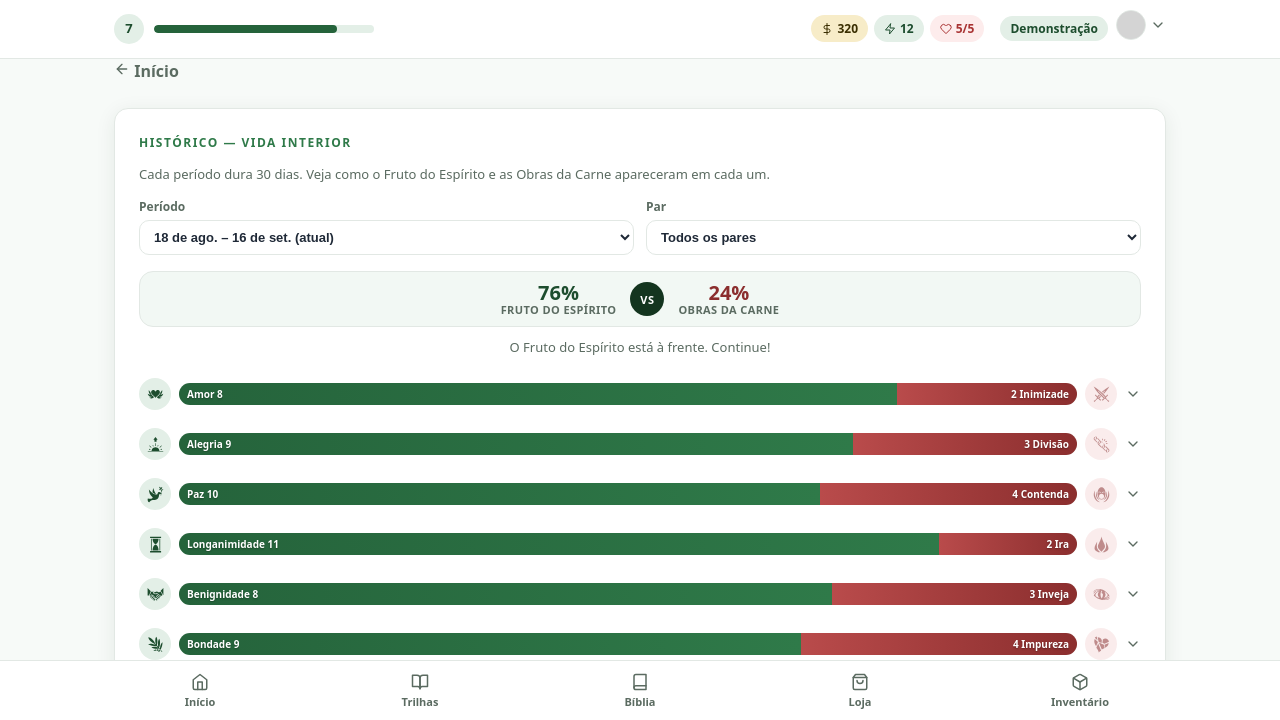
VidaInteriorHistoricoPage › filtrar por um par específico mostra só aquele par na barra
Expected: the text "Histórico — Vida Interior" is shown, [139,134,352,151]
Select "Amor × Inimizade" in the dropdown labelled "Par". click: {"x": 894, "y": 238}
box: [646,220,1141,255]
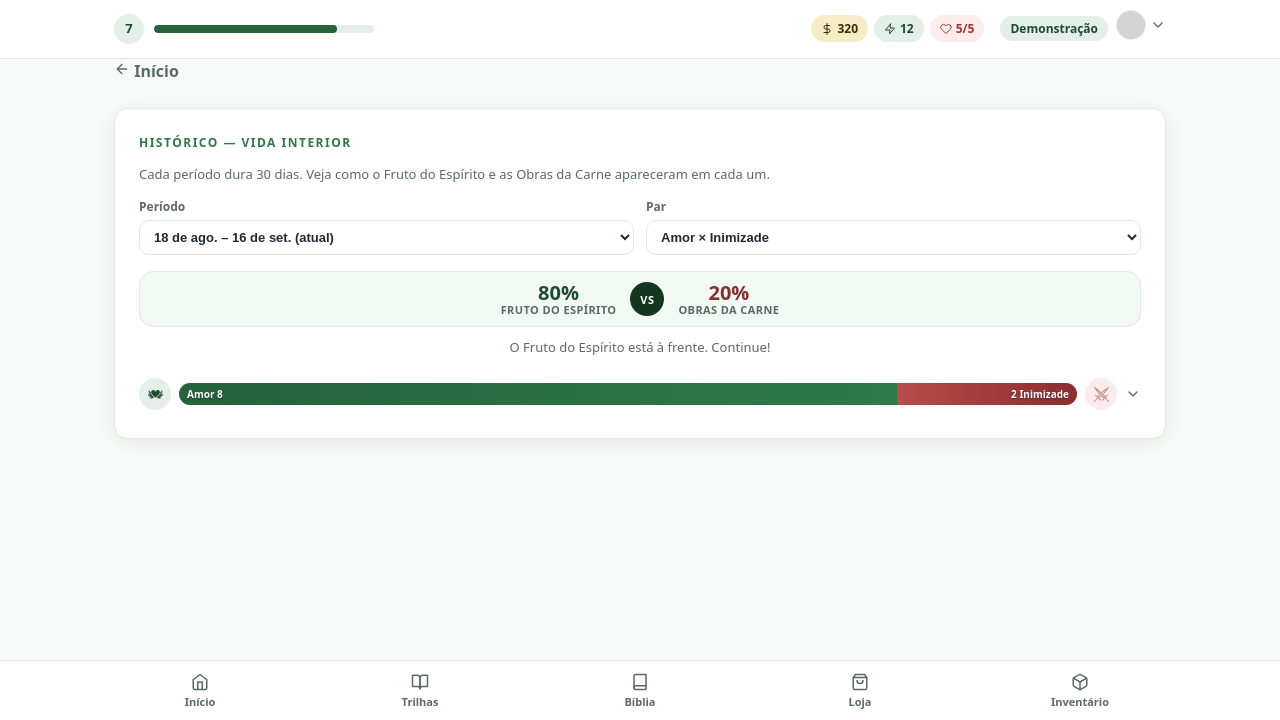
Expected: the list with class "sb-list" does not show "Longanimidade", [139,374,1141,414]
Result: the number of list items with class "sb-row" is 1 at [139,374,1141,414]
